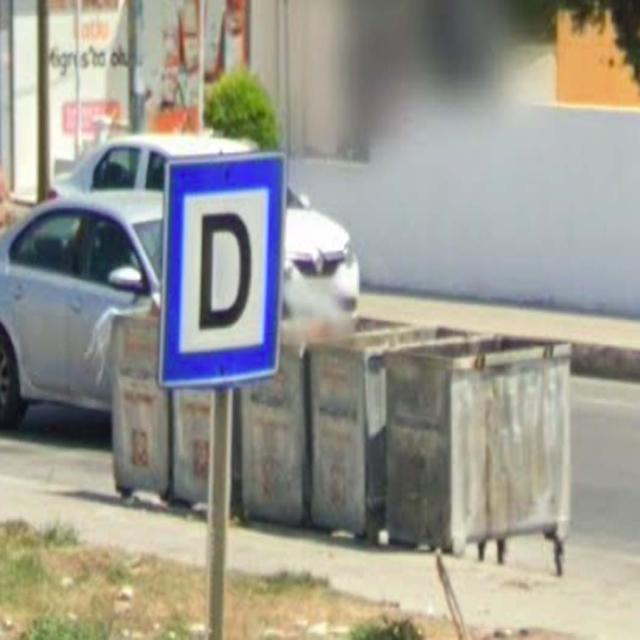durak: (157, 150, 286, 388)
